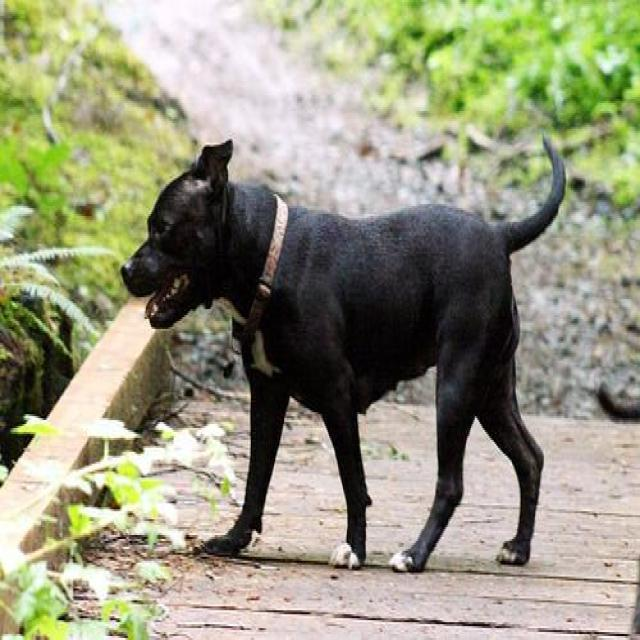staffordshire_bullterrier: (118, 135, 568, 572)
